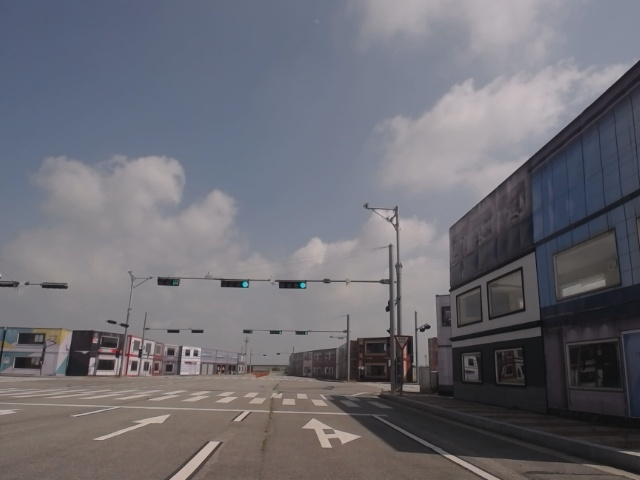straight_green_4: (279, 279, 307, 289), (222, 279, 250, 287)
